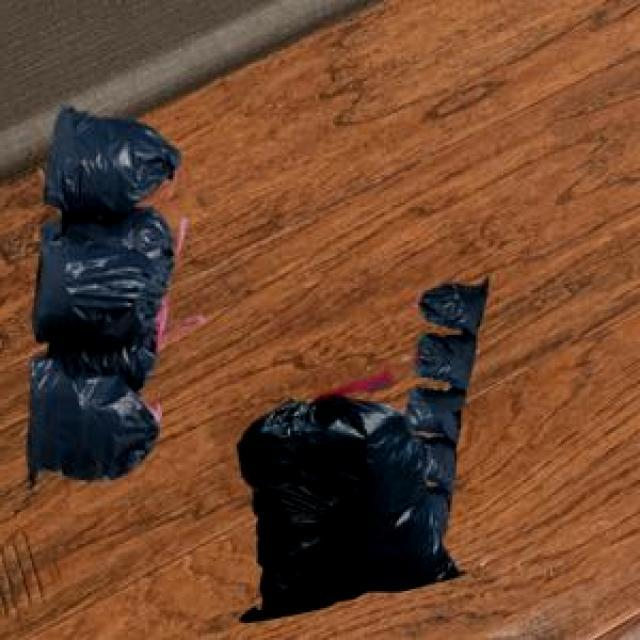Trashbag: (228, 397, 410, 633), (24, 346, 160, 492), (30, 217, 174, 350), (43, 105, 182, 222), (424, 270, 492, 335), (418, 331, 480, 391), (406, 387, 469, 439), (404, 431, 456, 486)
